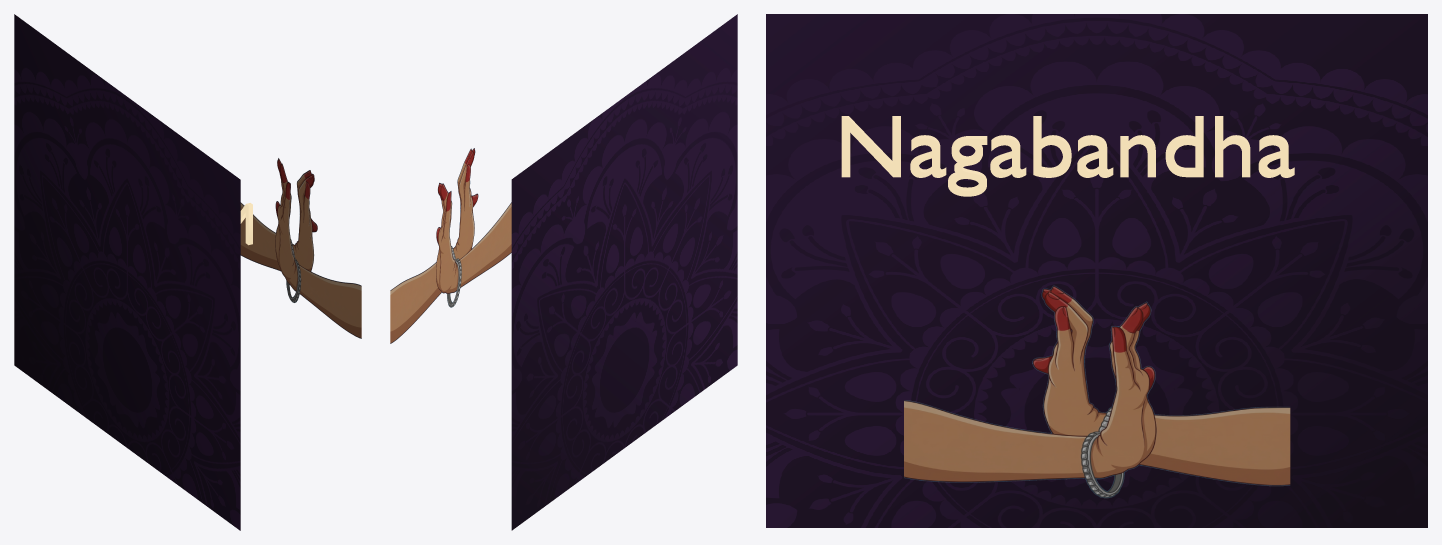
The model's file is Nagabandha.glb.
3 views of the same model, side by side, from view 1: azimuth 30°, elevation 25°; view 2: azimuth 150°, elevation 25°; view 3: azimuth 270°, elevation 25° (orthographic). The views are drawn at different scales.
Parts seen in each view (by area): view 1: Plane.019, Anjali.019; view 2: Plane.019, Anjali.019; view 3: Plane.019, Anjali.019, Text.041.
Boxes of the visible parts, x1,y1,x2,y2 form: Plane.019: (14,14,240,530); Anjali.019: (240,158,361,338); Plane.019: (511,14,737,530); Anjali.019: (390,148,511,343); Plane.019: (766,14,1427,527); Anjali.019: (904,285,1290,498); Text.041: (841,116,1294,196).
Size of the model in its own units: 1.53 by 3.05 by 3.56.
Materials: 3 (2 with a texture image).
